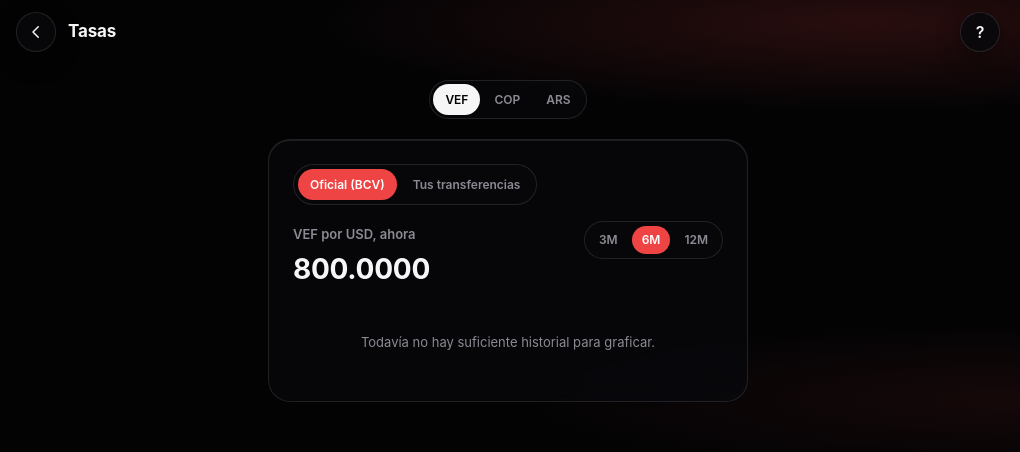
Scenario: RatesMain › con datos de transferencias, muestra la pestaña y permite alternar entre oficial y transferencias
Expected: the element with class "series-toggle" is shown, [293,164,538,205]
Expected: the text with class "rate-card-value" reads "800.0000", [293,252,430,286]
Click the tab with class "series-toggle-option" showing "Tus transferencias": x=467, y=185 [401,169,532,200]
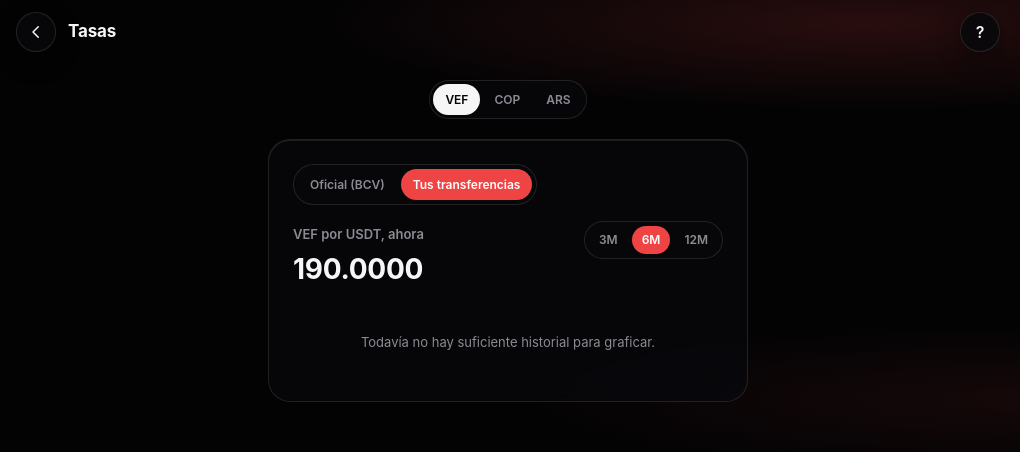
Expected: the text with class "rate-card-value" reads "190.0000", [293,252,423,286]
Expected: the text with class "rate-card-label" shows "USDT", [293,226,424,242]
